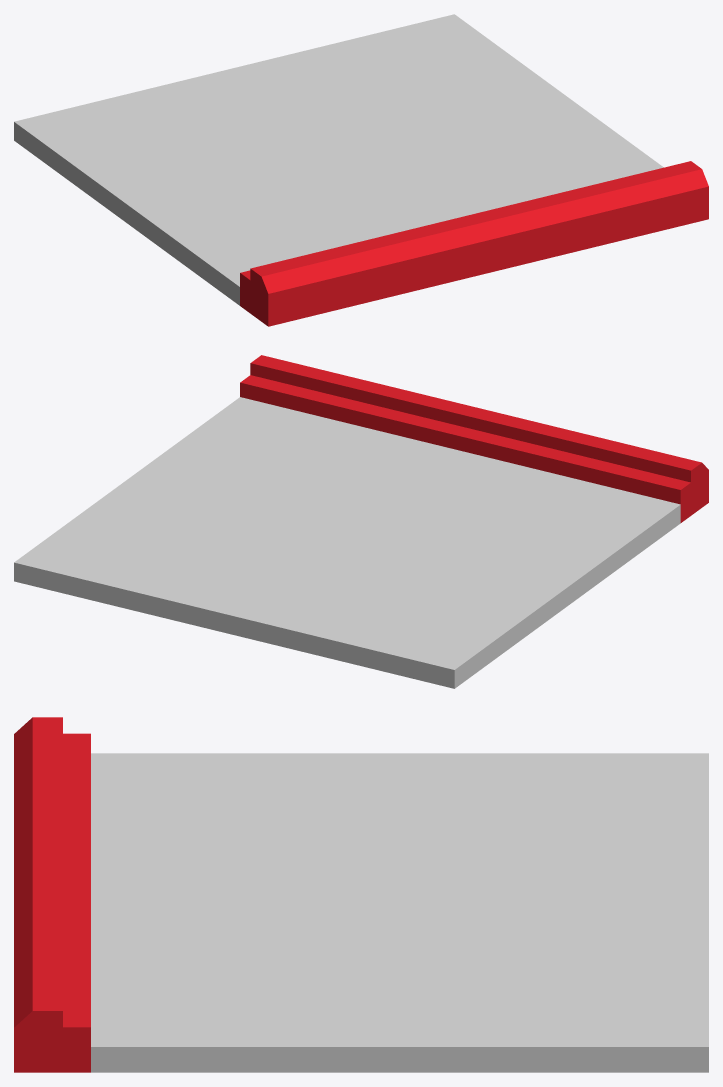
Rendered from Floor Border.fbx.
3 renders of one model, top to bottom at view 1: azimuth 30°, elevation 25°; view 2: azimuth 150°, elevation 25°; view 3: azimuth 270°, elevation 25°, orthographic. The views are drawn at different scales.
Parts seen in each view (by area): view 1: Floor border; view 2: Floor border; view 3: Floor border.
Boxes of the visible parts, <box> form: Floor border: <box>14,14,708,326</box>; Floor border: <box>14,355,708,688</box>; Floor border: <box>14,717,708,1072</box>.
Bounding box in the file's own units: 400 × 39.19 × 400.
